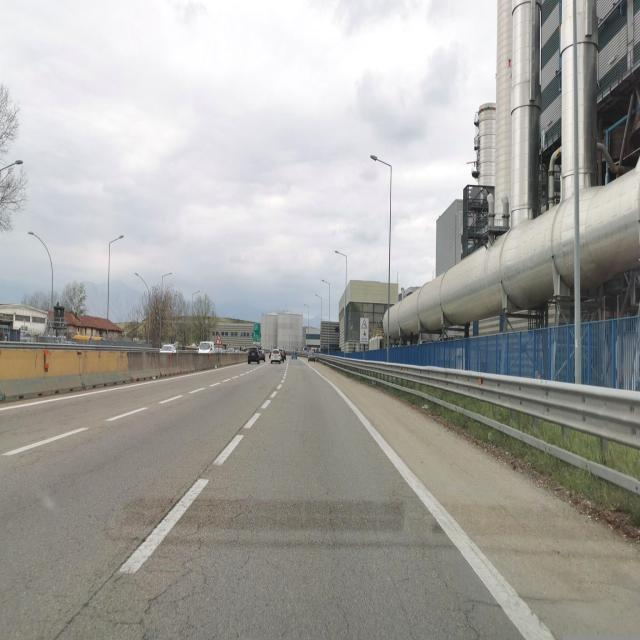car: (247, 347, 261, 365), (159, 342, 179, 354), (271, 348, 281, 364), (258, 348, 265, 361), (280, 349, 286, 362)
